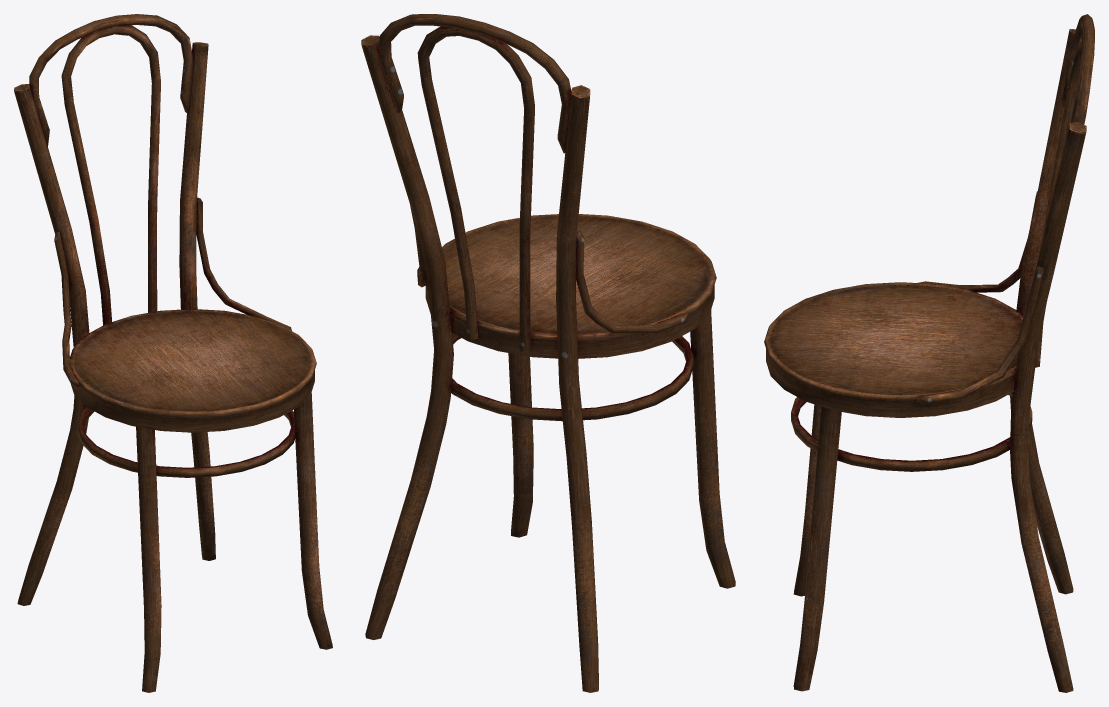
Rendered from Chair01.FBX.
3 renders of one model, left to right at view 1: azimuth 30°, elevation 25°; view 2: azimuth 150°, elevation 25°; view 3: azimuth 270°, elevation 25°, orthographic. The views are drawn at different scales.
Parts seen in each view (by area): view 1: Chair01_LOD0; view 2: Chair01_LOD0; view 3: Chair01_LOD0.
Part boxes in pixels (x1=…): Chair01_LOD0: x1=14, y1=14, x2=332, y2=692; Chair01_LOD0: x1=361, y1=14, x2=735, y2=692; Chair01_LOD0: x1=764, y1=14, x2=1094, y2=692.
Size of the model in its own units: 41.91 by 49.72 by 101.
